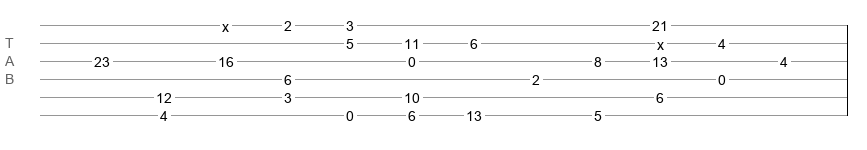0: (346, 108, 354, 118), (408, 54, 416, 64), (718, 72, 726, 82)
10: (404, 90, 420, 100)
11: (404, 36, 420, 46)
12: (156, 90, 172, 100)
13: (466, 108, 482, 118), (652, 54, 668, 64)
16: (218, 54, 234, 64)
2: (284, 18, 292, 28), (532, 72, 540, 82)
21: (652, 18, 668, 28)
23: (94, 54, 110, 64)
3: (284, 90, 292, 100), (346, 18, 354, 28)
4: (160, 108, 168, 118), (718, 36, 726, 46), (780, 54, 788, 64)
5: (346, 36, 354, 46), (594, 108, 602, 118)
6: (284, 72, 292, 82), (408, 108, 416, 118), (470, 36, 478, 46), (656, 90, 664, 100)
8: (594, 54, 602, 64)
x: (222, 19, 229, 27), (657, 37, 664, 45)
